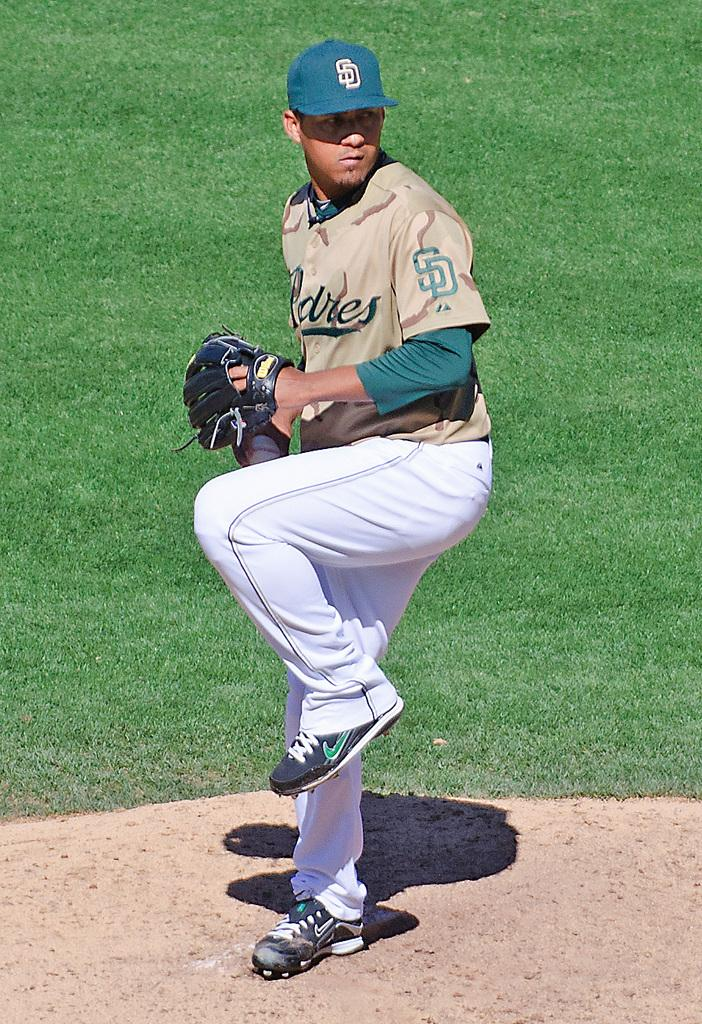Hat: (286, 36, 396, 118)
